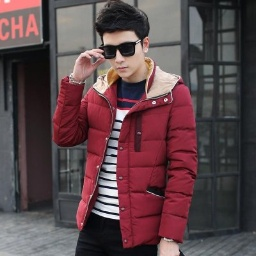face: (97, 1, 151, 80)
